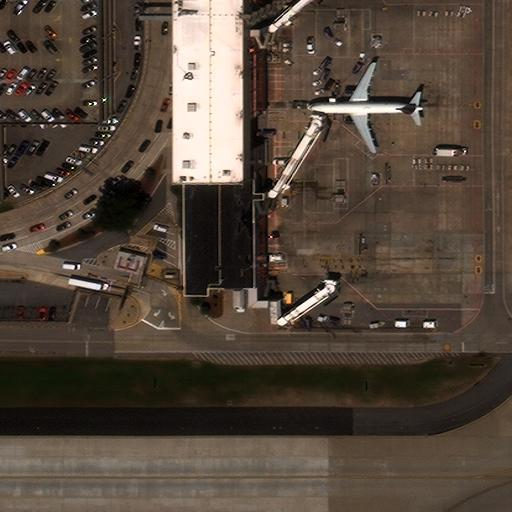Medium Civil Transport: (307, 61, 427, 152)
